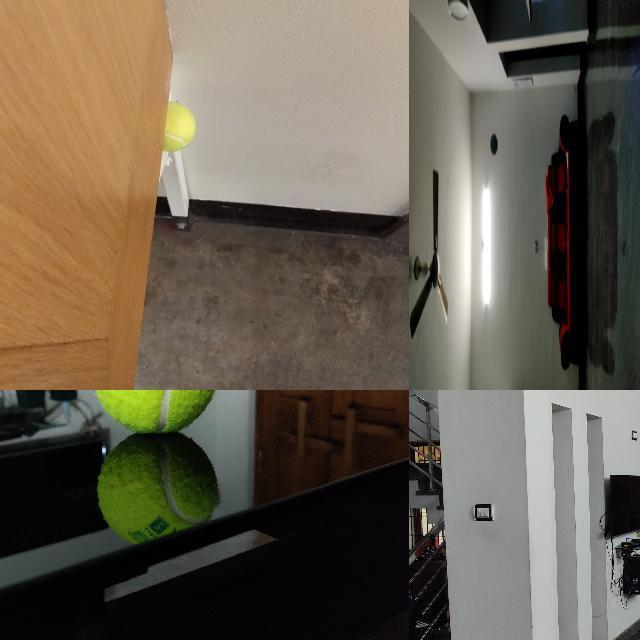tennis-ball: (92, 390, 219, 434), (169, 100, 196, 152), (490, 133, 498, 155)
